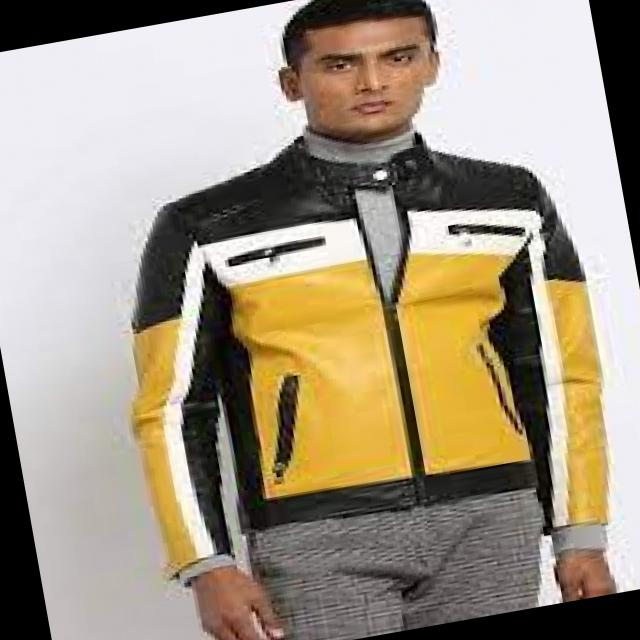Jacket: (65, 112, 638, 606)
